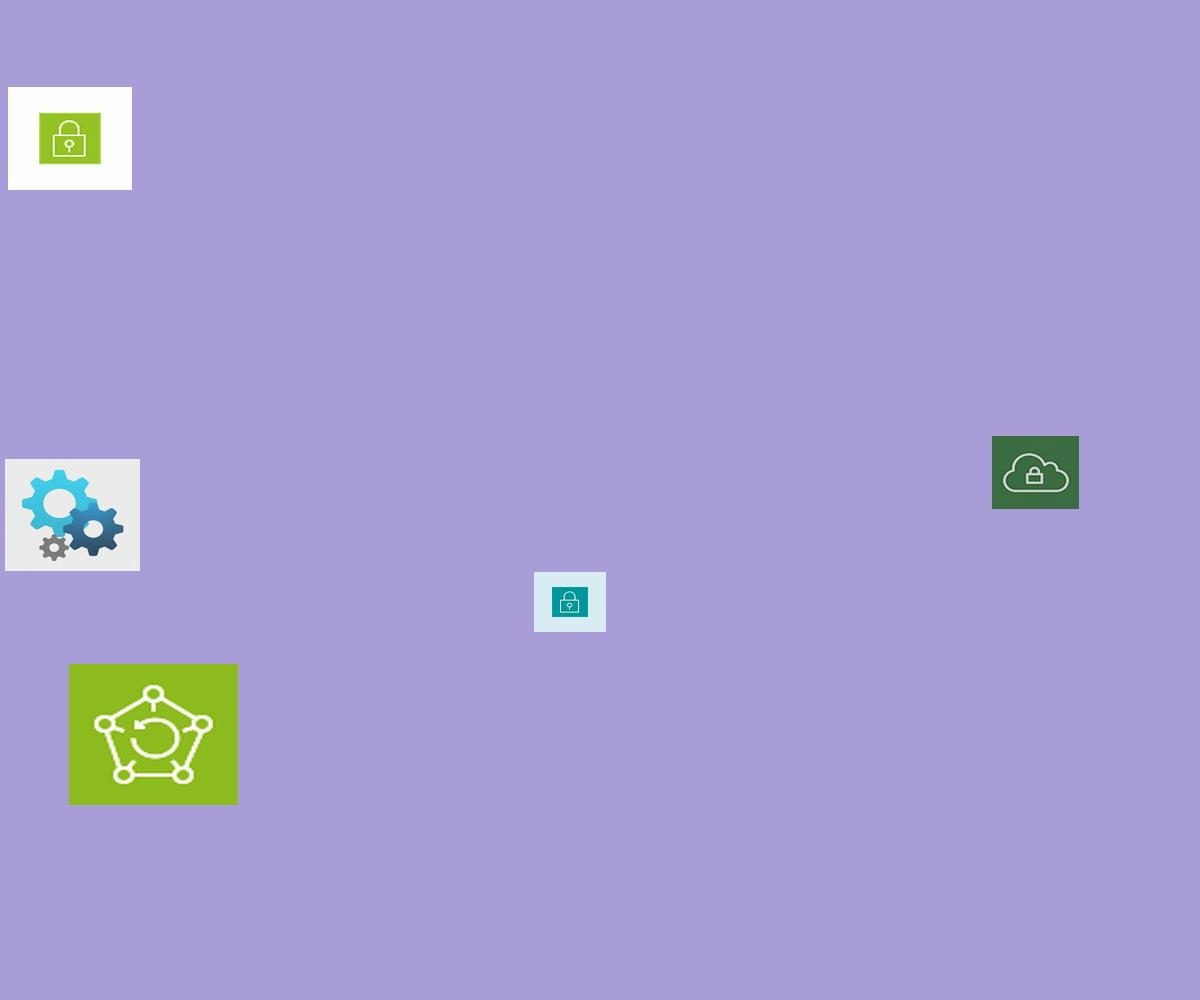AWS-Backup: (69, 664, 238, 805)
AWS-Private-subnet: (534, 572, 606, 632)
AWS-Private_vpc: (992, 436, 1079, 509)
AWS-Public-subnet: (8, 87, 132, 190)
Azure_api: (5, 459, 140, 571)
